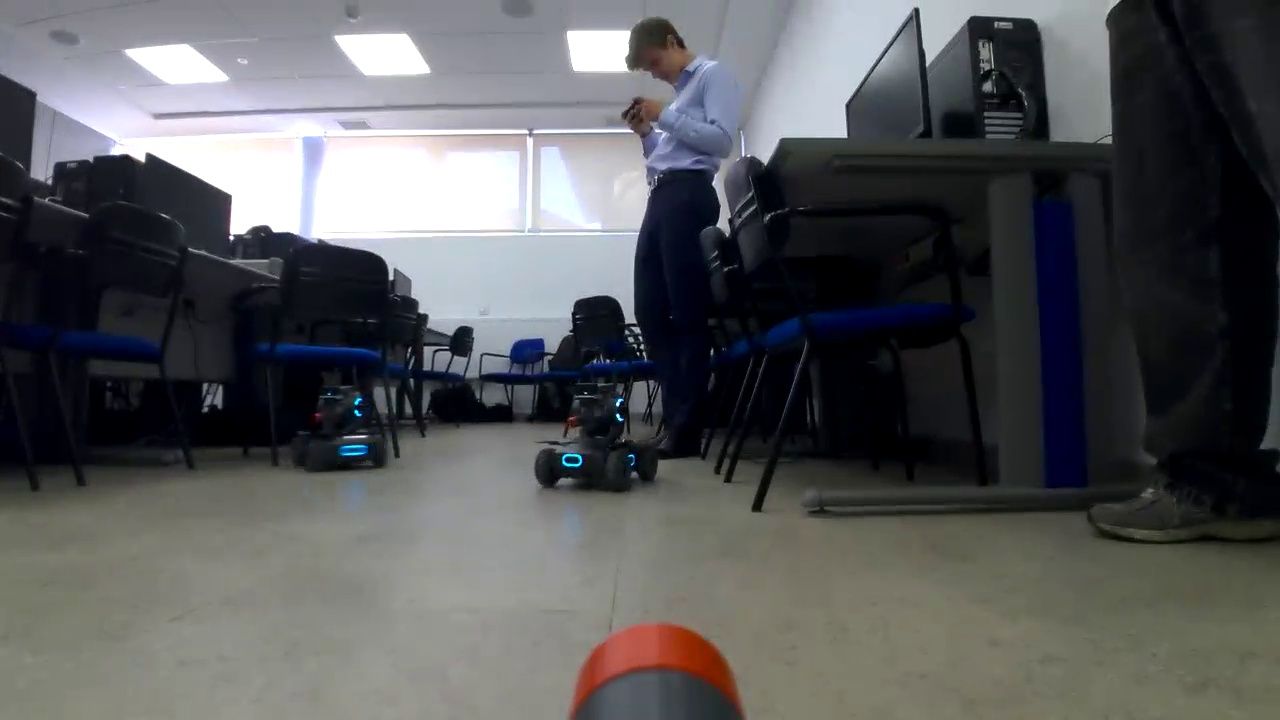robot: (531, 379, 661, 495), (289, 376, 394, 480)
